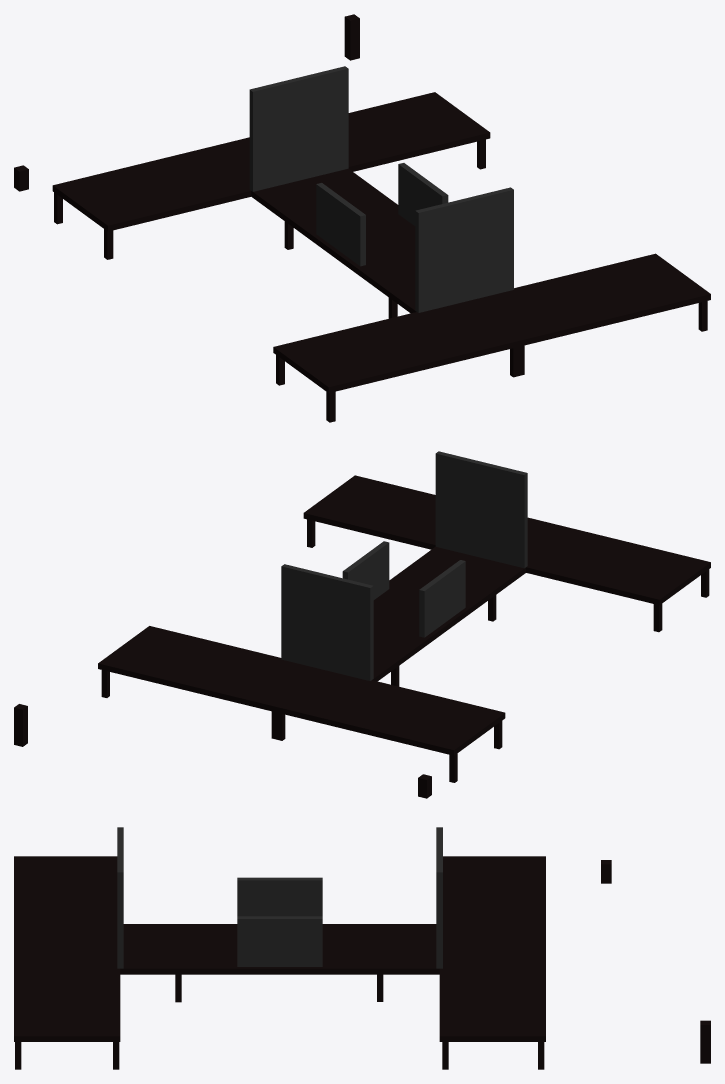
Rendered from Static_0_5friction.fbx.
The picture shows the model from 3 angles, top to bottom: view 1: azimuth 30°, elevation 25°; view 2: azimuth 150°, elevation 25°; view 3: azimuth 270°, elevation 25°; orthographic projection. The views are drawn at different scales.
Visible parts, largest first — view 1: StaticBox23, StaticBox22, StaticBox20, StaticBox25, StaticBox24, StaticBox21, StaticBox19, StaticBox27, StaticBox26, StaticBox2; view 2: StaticBox20, StaticBox19, StaticBox23, StaticBox24, StaticBox25, StaticBox21, StaticBox22, StaticBox27, StaticBox26, StaticBox2; view 3: StaticBox21, StaticBox22, StaticBox19, StaticBox23, StaticBox20, StaticBox26, StaticBox27, StaticBox24, StaticBox25, StaticBox2.
Boxes of the visible parts, x1=… form: StaticBox23: x1=273, y1=301, x2=519, y2=393; StaticBox22: x1=466, y1=253, x2=710, y2=346; StaticBox20: x1=52, y1=138, x2=251, y2=231; StaticBox25: x1=249, y1=66, x2=348, y2=191; StaticBox24: x1=415, y1=187, x2=513, y2=312; StaticBox21: x1=251, y1=168, x2=416, y2=313; StaticBox19: x1=244, y1=92, x2=490, y2=171; StaticBox27: x1=316, y1=183, x2=365, y2=266; StaticBox26: x1=398, y1=163, x2=448, y2=225; StaticBox2: x1=344, y1=14, x2=359, y2=60; StaticBox20: x1=276, y1=670, x2=505, y2=755; StaticBox19: x1=98, y1=626, x2=325, y2=712; StaticBox23: x1=526, y1=519, x2=710, y2=605; StaticBox24: x1=435, y1=451, x2=527, y2=568; StaticBox25: x1=281, y1=564, x2=373, y2=680; StaticBox21: x1=372, y1=546, x2=525, y2=681; StaticBox22: x1=303, y1=475, x2=532, y2=549; StaticBox27: x1=419, y1=560, x2=465, y2=637; StaticBox26: x1=342, y1=541, x2=389, y2=599; StaticBox2: x1=14, y1=704, x2=27, y2=746; StaticBox21: x1=120, y1=924, x2=439, y2=974; StaticBox22: x1=14, y1=946, x2=120, y2=1041; StaticBox19: x1=439, y1=946, x2=545, y2=1041; StaticBox23: x1=14, y1=856, x2=117, y2=946; StaticBox20: x1=443, y1=856, x2=545, y2=946; StaticBox26: x1=237, y1=916, x2=322, y2=966; StaticBox27: x1=237, y1=877, x2=322, y2=916; StaticBox24: x1=117, y1=827, x2=123, y2=968; StaticBox25: x1=436, y1=827, x2=442, y2=968; StaticBox2: x1=700, y1=1020, x2=710, y2=1063.
Size of what is drawn, in the model's own units: 410 by 136 by 655.
